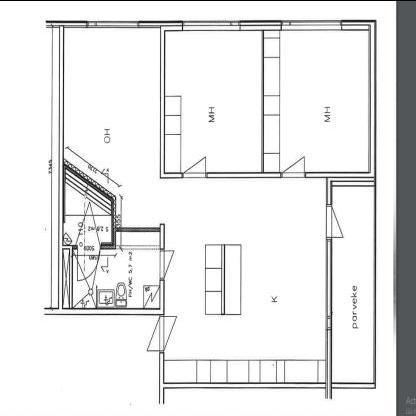door: (141, 306, 180, 360), (74, 236, 102, 281), (323, 201, 347, 246), (179, 150, 209, 185), (278, 149, 306, 182), (155, 245, 177, 287)
window: (280, 10, 344, 36), (176, 12, 244, 36)
